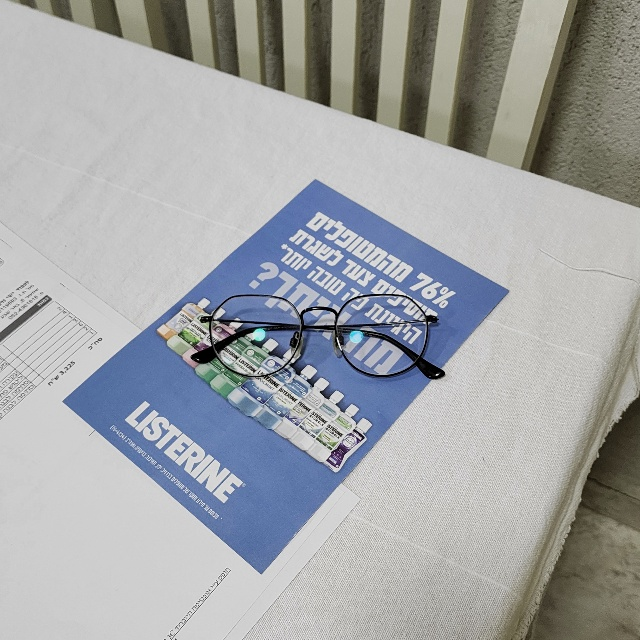glasses: (188, 292, 455, 388)
